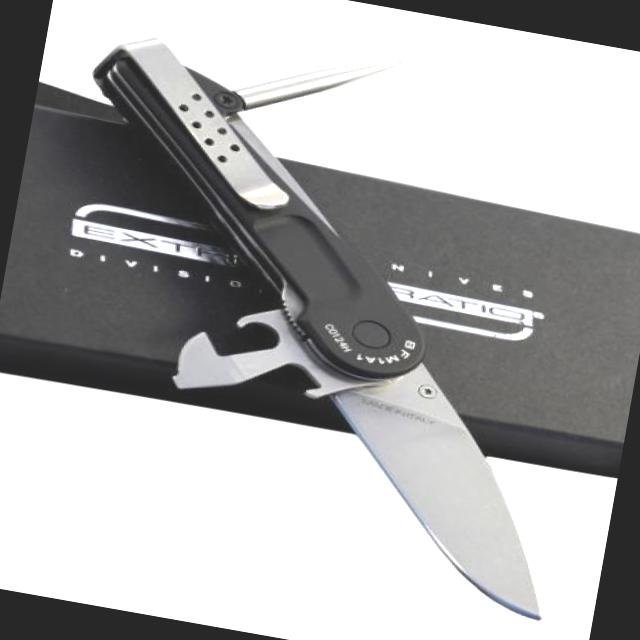knife: (265, 336, 591, 628)
